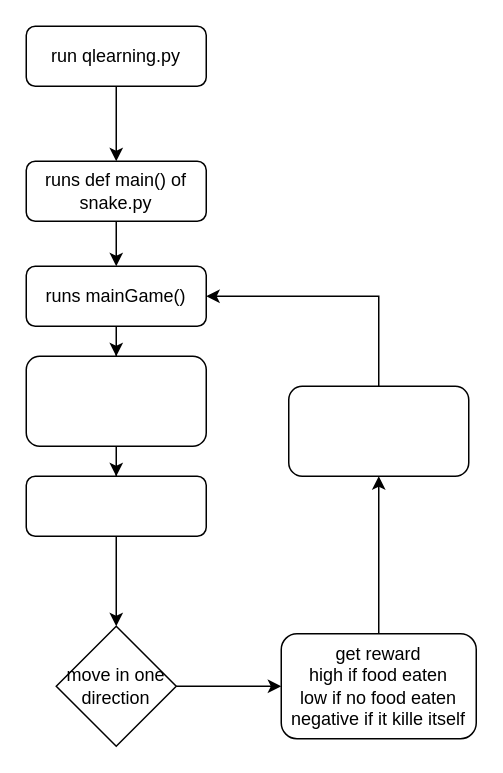
Some shapes in this 503 by 773 pixel diagram are drawn without their labels. The shapes that lost their labels are listed below. From the top down, each one's centre as x and y in pixels, then its label:
the point at 115,400: get current state (position, moves, score, ...)
the point at 378,430: update Q[state] with reward function
the point at 115,505: call emulate() in qlearning.py
